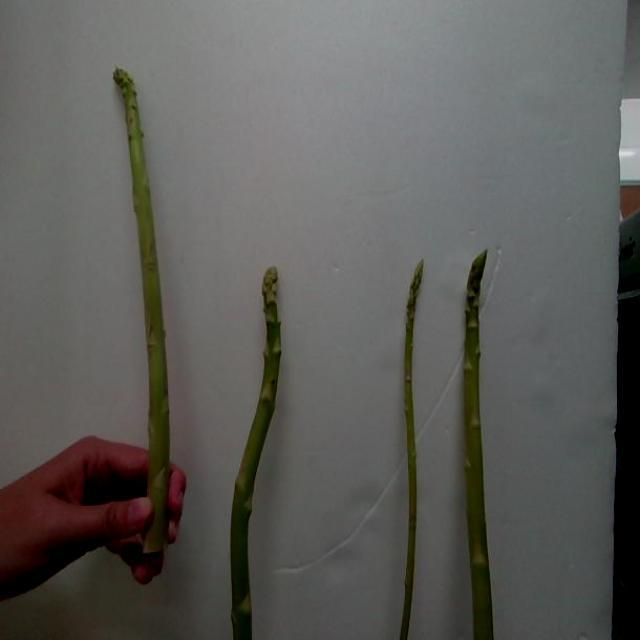aspargus: (113, 69, 171, 536), (231, 268, 285, 640), (463, 250, 498, 640), (396, 263, 425, 640)
